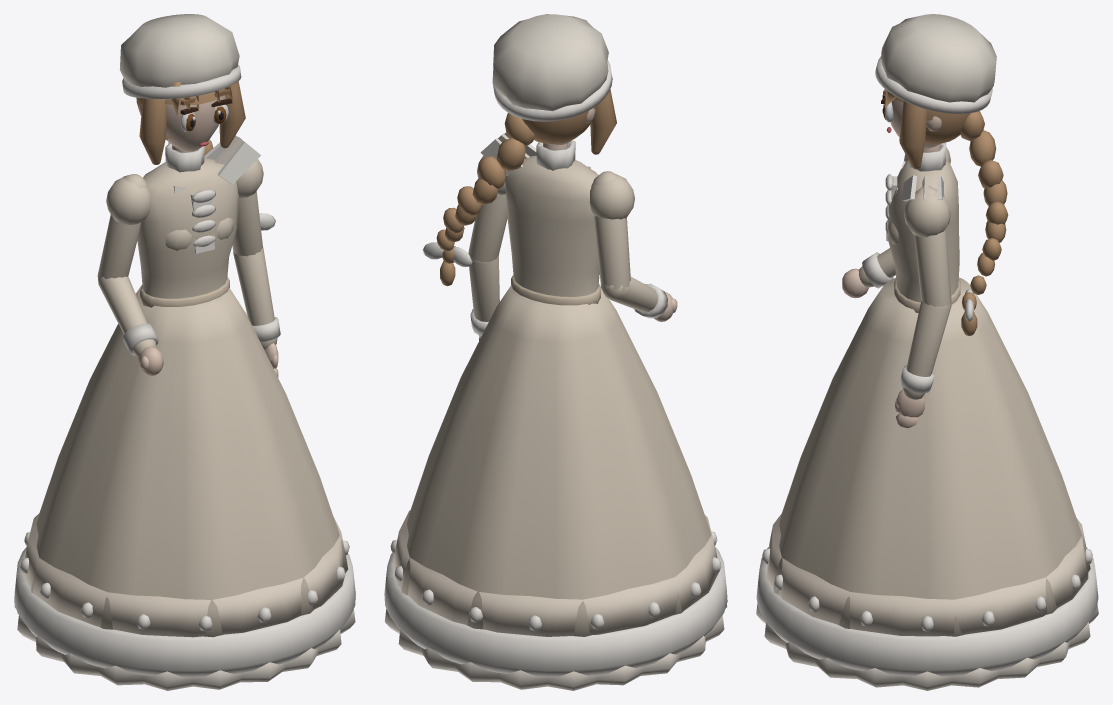
File: macrophage.glb
3 renders of one model, left to right at view 1: azimuth 30°, elevation 25°; view 2: azimuth 150°, elevation 25°; view 3: azimuth 270°, elevation 25°, orthographic.
Parts seen in each view (by area): view 1: macrophage.body, macrophage.arm_r, macrophage.arm_l; view 2: macrophage.body, macrophage.arm_r, macrophage.braid, macrophage.arm_l; view 3: macrophage.body, macrophage.arm_l, macrophage.braid, macrophage.arm_r.
Boxes of the visible parts, x1,y1,x2,y2 form: macrophage.body: [14, 14, 355, 690]; macrophage.arm_r: [97, 174, 163, 375]; macrophage.arm_l: [232, 159, 280, 377]; macrophage.body: [384, 14, 727, 690]; macrophage.arm_r: [589, 171, 677, 321]; macrophage.braid: [422, 113, 534, 286]; macrophage.arm_l: [468, 155, 507, 340]; macrophage.body: [756, 14, 1098, 690]; macrophage.arm_l: [895, 186, 951, 428]; macrophage.braid: [960, 111, 1008, 336]; macrophage.arm_r: [842, 147, 950, 298].
Size of the model in its own units: 0.9418 by 1.87 by 0.9418.
